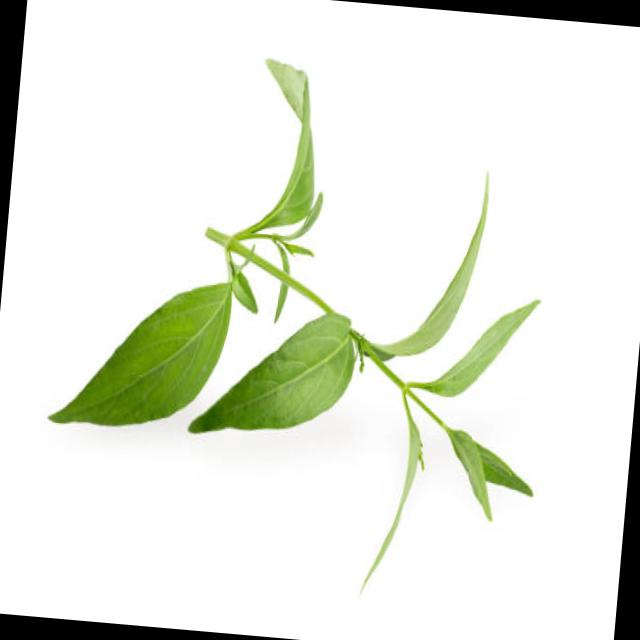Chirata: (88, 59, 596, 624)
